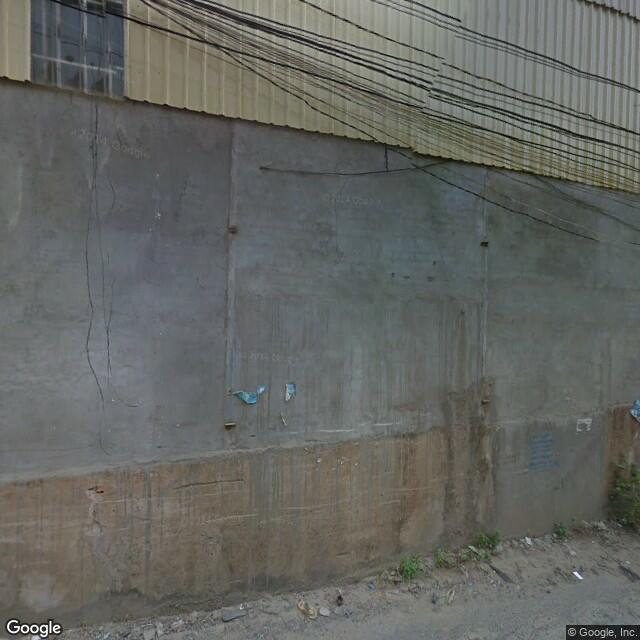litter: (617, 561, 639, 588), (299, 600, 314, 617), (516, 534, 533, 547), (316, 605, 333, 617), (569, 570, 585, 581)
